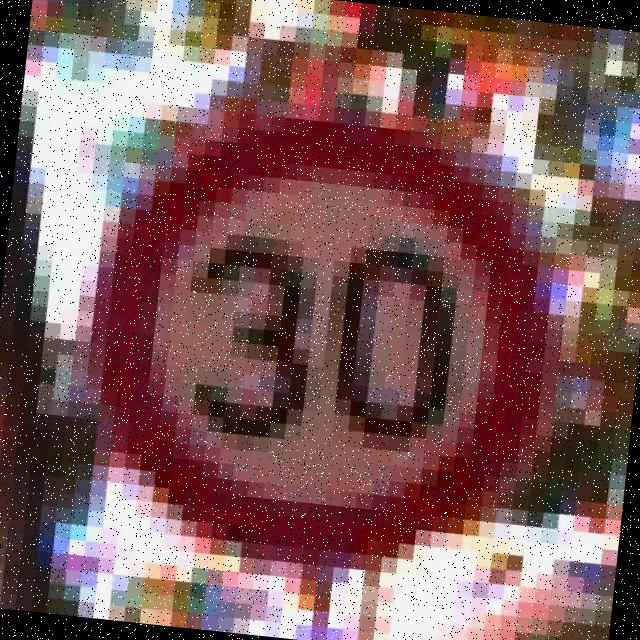Ograniczenie predkosci do 30: (68, 97, 564, 584)
